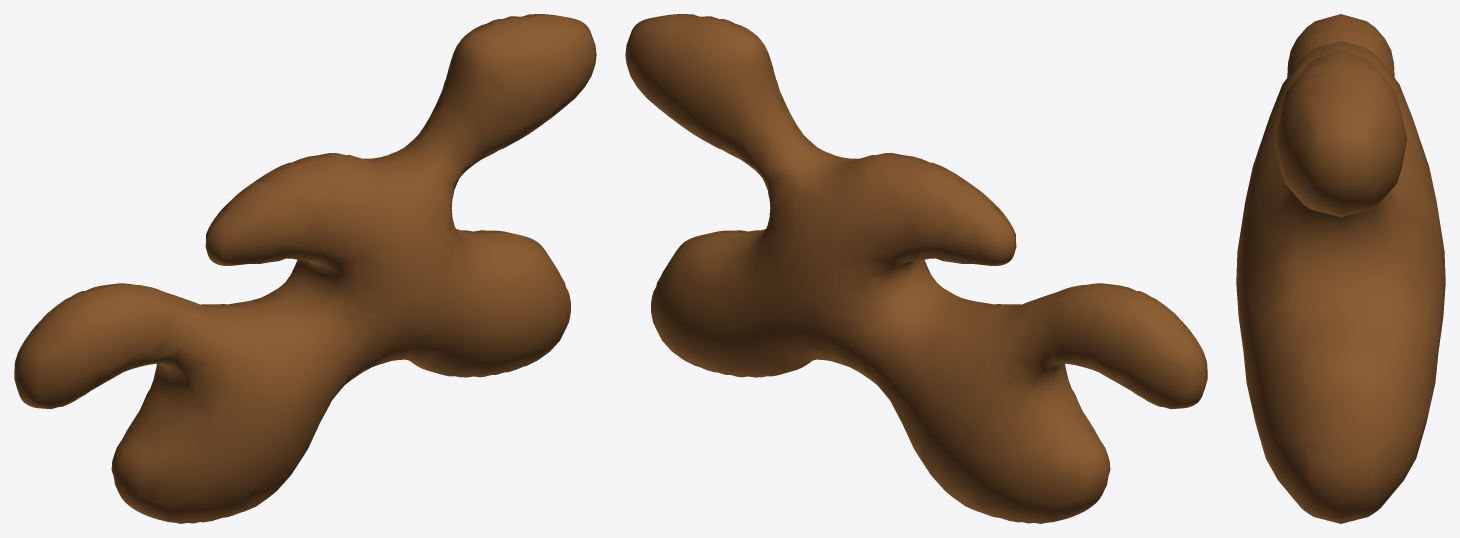
Rendered from mm_project.glb.
The picture shows the model from 3 angles, left to right: view 1: azimuth 30°, elevation 25°; view 2: azimuth 150°, elevation 25°; view 3: azimuth 270°, elevation 25°; orthographic projection. The views are drawn at different scales.
Visible parts, largest first — view 1: a0bfbdde-d636-49d5-b440-ff48f53f857e; view 2: a0bfbdde-d636-49d5-b440-ff48f53f857e; view 3: a0bfbdde-d636-49d5-b440-ff48f53f857e.
Boxes of the visible parts, left/top/right/bottom form: a0bfbdde-d636-49d5-b440-ff48f53f857e: left=14, top=14, right=596, bottom=523; a0bfbdde-d636-49d5-b440-ff48f53f857e: left=625, top=14, right=1207, bottom=523; a0bfbdde-d636-49d5-b440-ff48f53f857e: left=1236, top=14, right=1445, bottom=523.
Bounding box in the file's own units: 2.69 × 1.88 × 0.6446.
